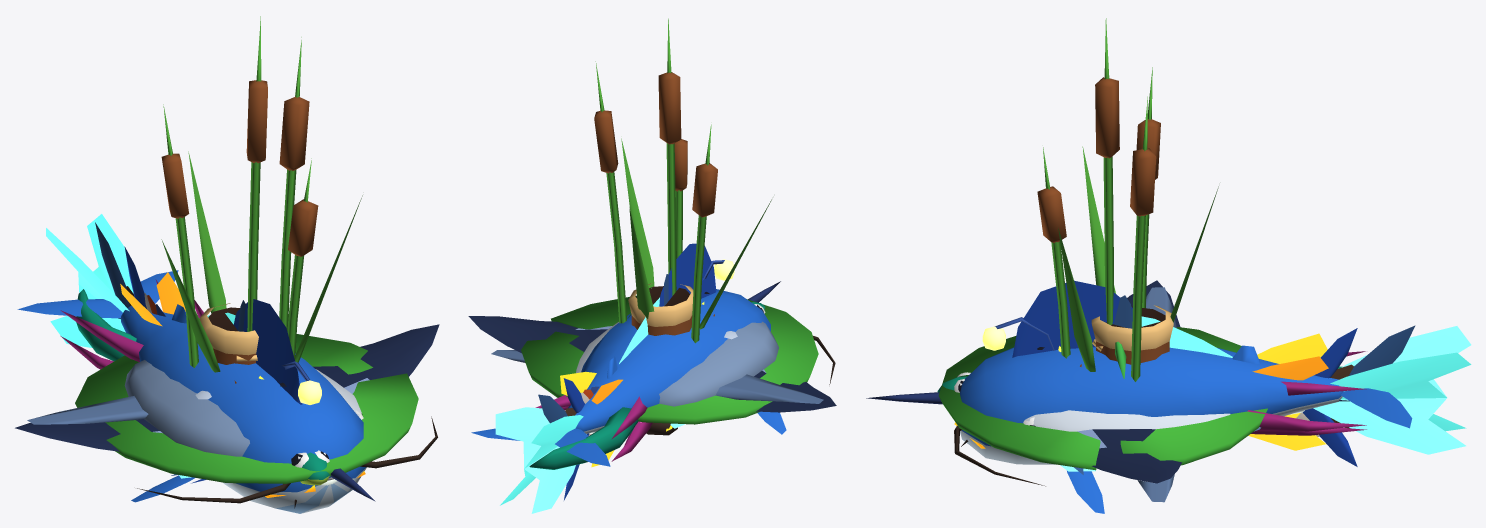
File: fish.glb
3 views of the same model, side by side, from view 1: azimuth 30°, elevation 25°; view 2: azimuth 150°, elevation 25°; view 3: azimuth 270°, elevation 25° (orthographic). The views are drawn at different scales.
Visible parts, largest first — view 1: fish_whale_body, reeds, lily_pad, fish_sunfish_body, fish_manta_body, fish_guardian_tail, fish_swordfish_body, boot_body, fish_whale_tail, fish_kraken_tail, fish_catfish_body, fish_eel_tail (+5 smaller); view 2: reeds, fish_whale_body, lily_pad, fish_sunfish_body, fish_guardian_tail, fish_manta_body, boot_body, fish_eel_tail, fish_swordfish_body, fish_whale_tail, fish_kraken_tail, fish_golden_tail (+4 smaller); view 3: fish_whale_body, reeds, lily_pad, fish_guardian_tail, fish_swordfish_body, fish_sunfish_body, fish_manta_body, fish_golden_tail, boot_body, fish_kraken_tail, fish_swordfish_tail, fish_whale_tail (+3 smaller).
Boxes of the visible parts, left/top/right/bottom form: fish_whale_body: left=121, top=304, right=366, bottom=513; reeds: left=161, top=16, right=362, bottom=372; lily_pad: left=75, top=334, right=418, bottom=483; fish_sunfish_body: left=27, top=360, right=361, bottom=456; fish_manta_body: left=15, top=324, right=439, bottom=451; fish_guardian_tail: left=46, top=214, right=133, bottom=347; fish_swordfish_body: left=191, top=299, right=375, bottom=501; boot_body: left=199, top=303, right=258, bottom=364; fish_whale_tail: left=17, top=270, right=178, bottom=318; fish_kraken_tail: left=60, top=279, right=203, bottom=369; fish_catfish_body: left=137, top=416, right=437, bottom=508; fish_eel_tail: left=76, top=289, right=136, bottom=361; reeds: left=594, top=18, right=771, bottom=343; fish_whale_body: left=568, top=289, right=786, bottom=434; lily_pad: left=521, top=295, right=818, bottom=424; fish_sunfish_body: left=491, top=321, right=823, bottom=406; fish_guardian_tail: left=495, top=407, right=586, bottom=513; fish_manta_body: left=468, top=316, right=836, bottom=412; boot_body: left=627, top=283, right=693, bottom=435; fish_eel_tail: left=529, top=407, right=638, bottom=469; fish_swordfish_body: left=659, top=243, right=780, bottom=306; fish_whale_tail: left=471, top=428, right=610, bottom=466; fish_kraken_tail: left=535, top=395, right=652, bottom=461; fish_golden_tail: left=560, top=371, right=622, bottom=467; fish_whale_body: left=960, top=345, right=1343, bottom=513; reeds: left=1037, top=18, right=1218, bottom=381; lily_pad: left=938, top=327, right=1267, bottom=470; fish_guardian_tail: left=1313, top=326, right=1471, bottom=454; fish_swordfish_body: left=866, top=280, right=1132, bottom=404; fish_sunfish_body: left=1024, top=287, right=1230, bottom=502; fish_manta_body: left=1077, top=280, right=1182, bottom=483; fish_golden_tail: left=1248, top=333, right=1328, bottom=450; boot_body: left=1091, top=305, right=1173, bottom=378; fish_kraken_tail: left=1247, top=351, right=1366, bottom=435; fish_swordfish_tail: left=1302, top=328, right=1357, bottom=466; fish_whale_tail: left=1340, top=388, right=1412, bottom=428.
Size of the model in its own units: 1 by 1.05 by 1.26.
